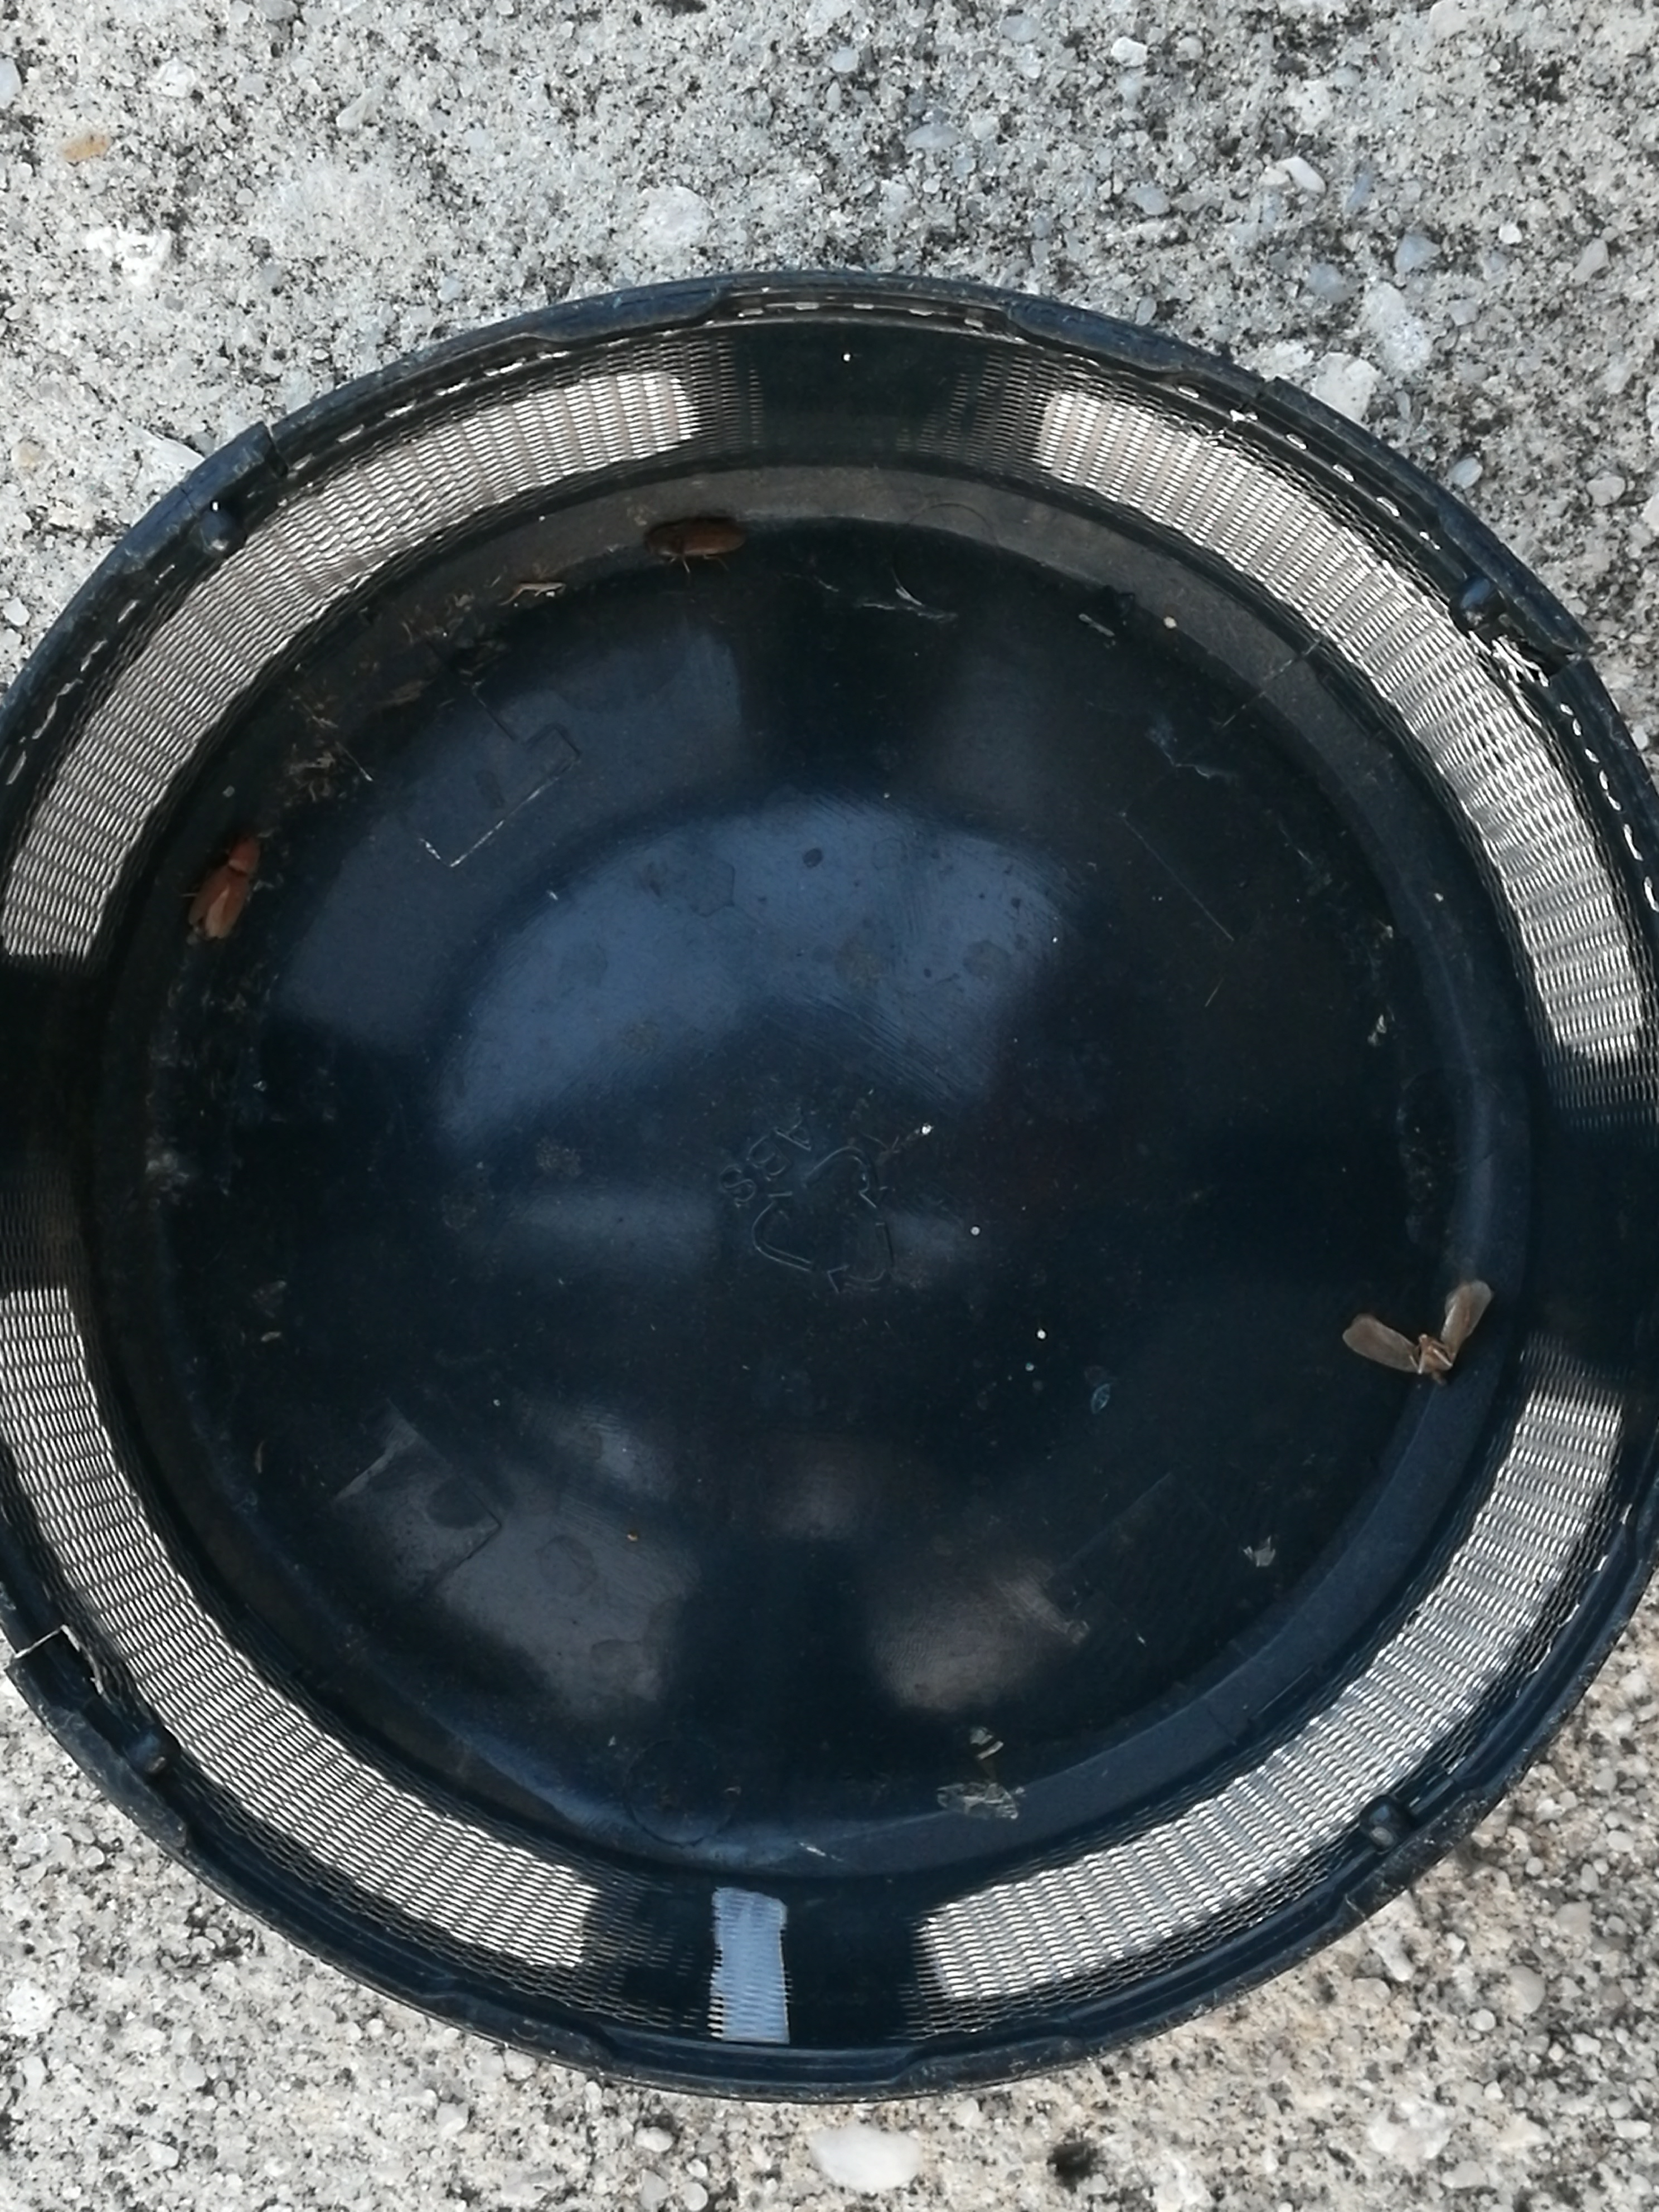mosquito: (188, 836, 261, 937), (652, 526, 742, 557)
moth: (1342, 1282, 1493, 1378)
